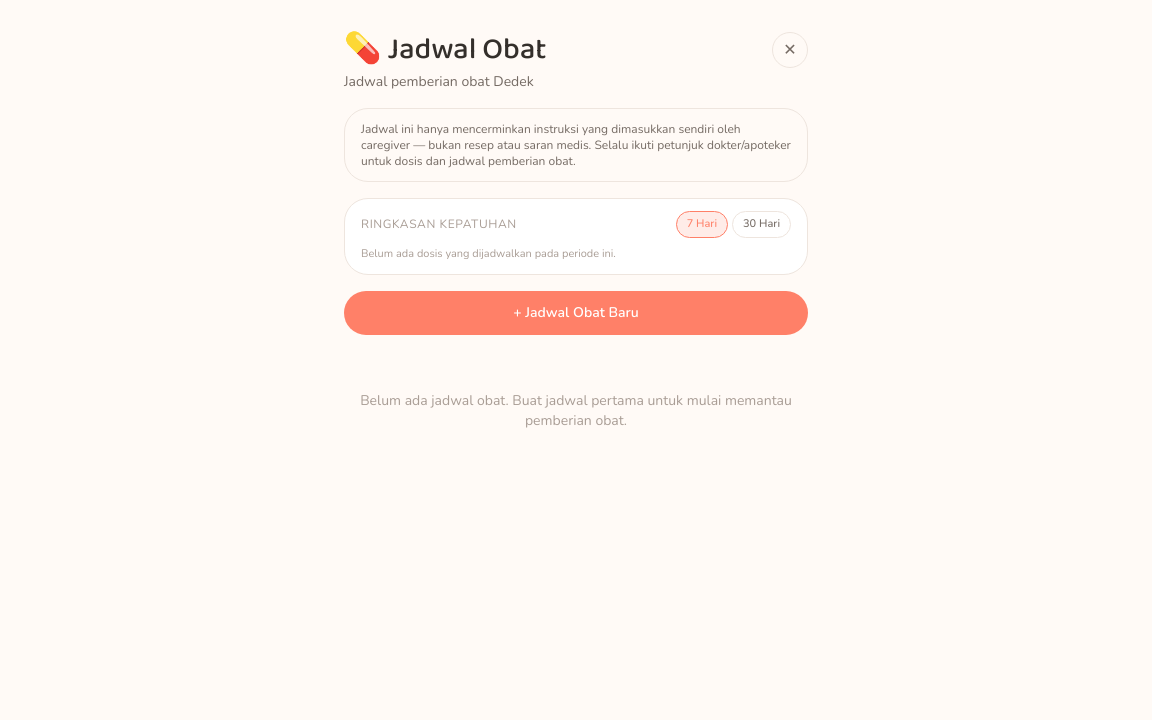
Scenario: MedicationScheduleScreen — schedule form validation › dose unit select is disabled until a dose value is entered
Click the button "+ Jadwal Obat Baru": point(576, 313) x1=344 y1=291 x2=808 y2=335
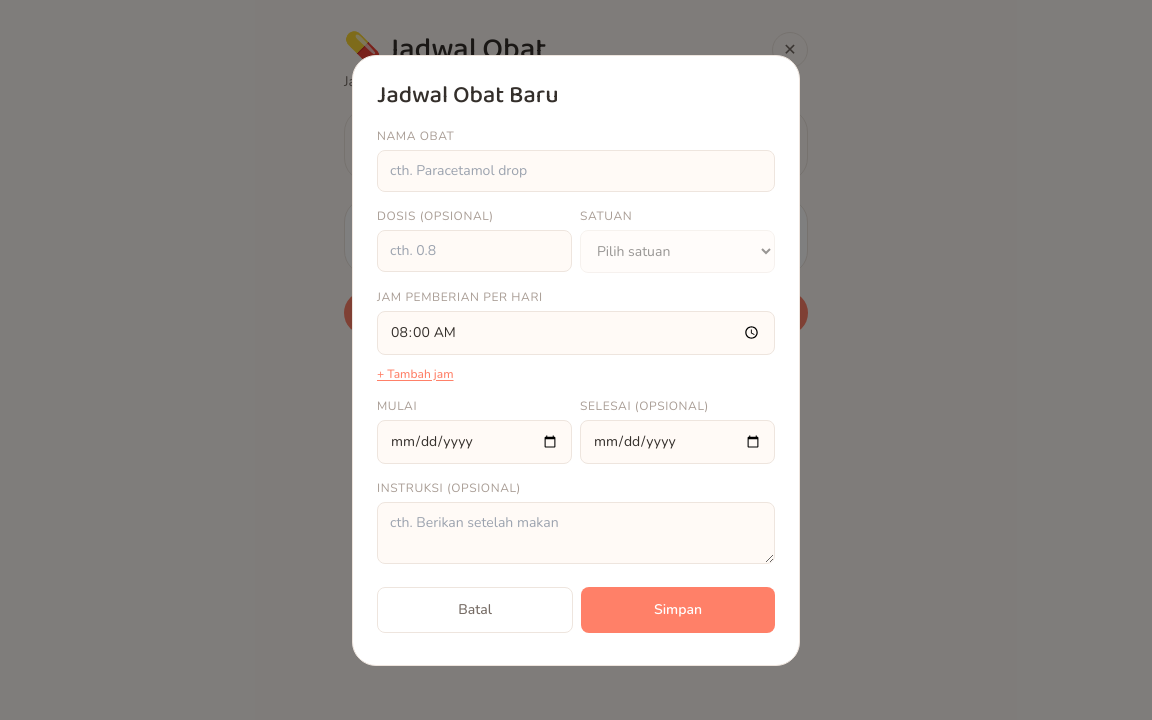
Check: the dropdown labelled "Satuan" is disabled, box x1=580 y1=230 x2=775 y2=272
In the number field labelled "Dosis (opsional)": point(474, 250) x1=377 y1=230 x2=572 y2=272, type "5"
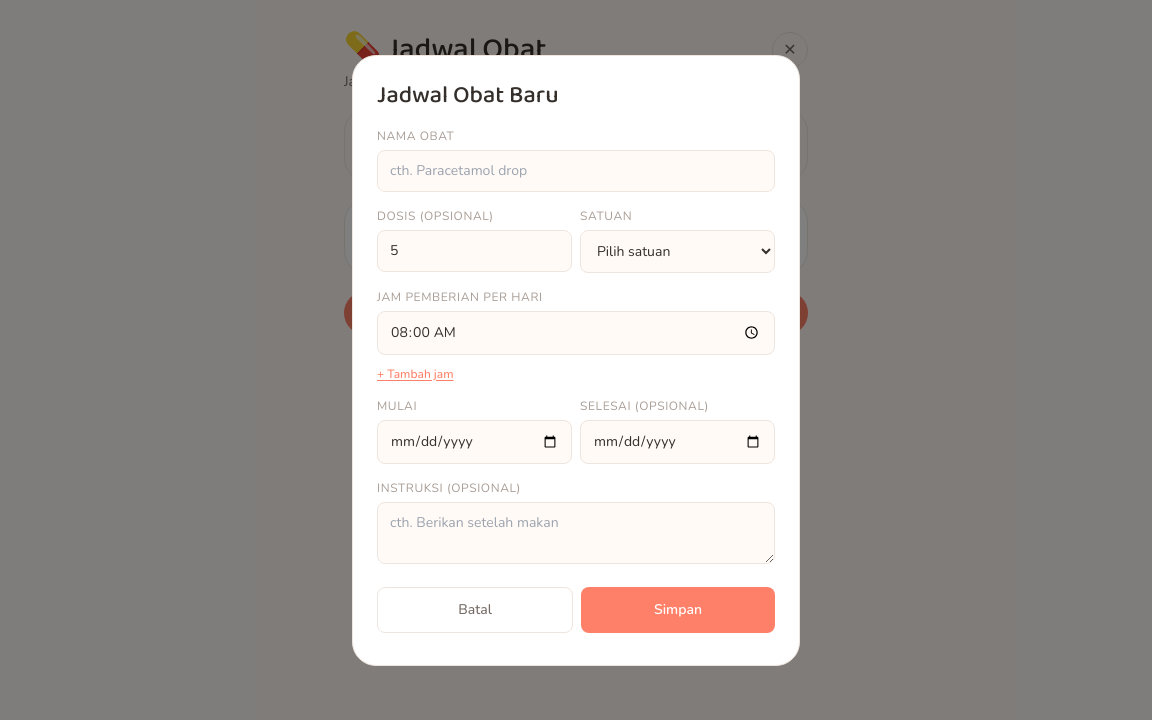
Check: the dropdown labelled "Satuan" is enabled, box x1=580 y1=230 x2=775 y2=272
